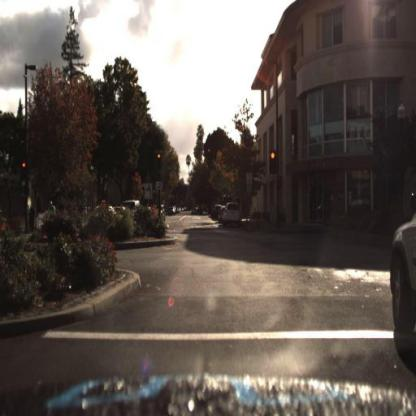biker: (48, 197, 57, 224)
car: (387, 178, 414, 357), (221, 199, 246, 228), (224, 201, 242, 228), (158, 205, 168, 220)
trafficLight: (20, 158, 28, 179)
trafficLight-Red: (269, 149, 277, 176), (155, 151, 163, 174)
